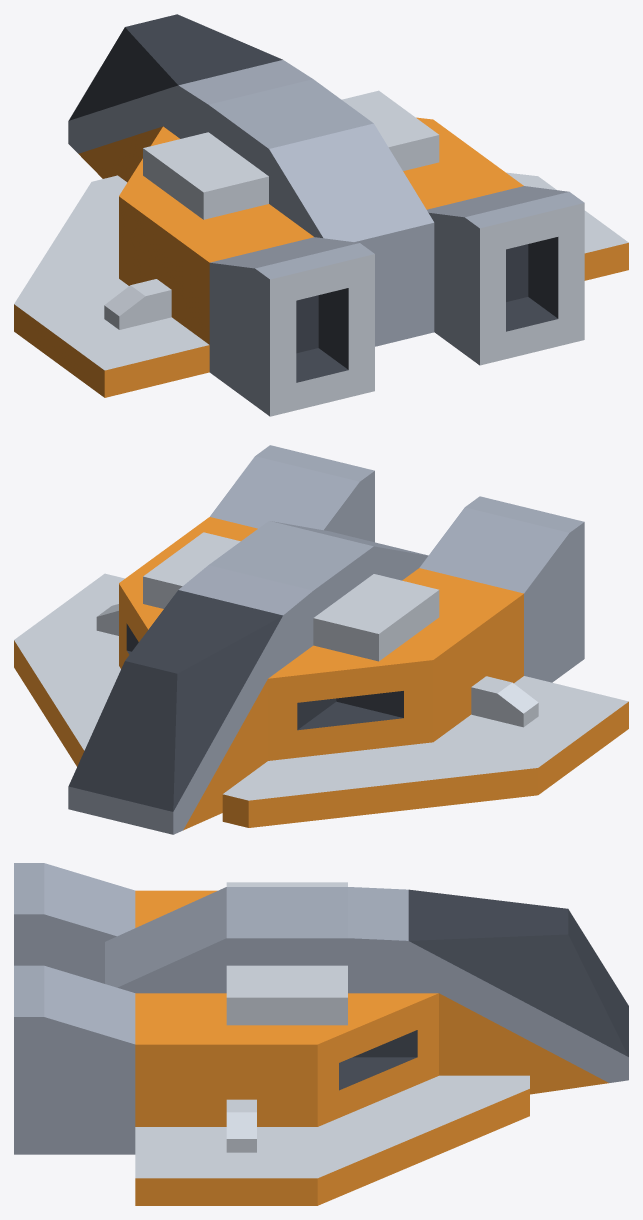
File: k-craft-speeder-b.glb
3 renders of one model, top to bottom at view 1: azimuth 30°, elevation 25°; view 2: azimuth 150°, elevation 25°; view 3: azimuth 270°, elevation 25°, orthographic.
Visible parts, largest first — view 1: craft_speederB; view 2: craft_speederB; view 3: craft_speederB.
Boxes of the visible parts, box(x1,y1,x2,y2) form: craft_speederB: box(14, 14, 628, 416); craft_speederB: box(14, 445, 628, 834); craft_speederB: box(14, 863, 628, 1205).
Size of the model in its own units: 2 by 0.6 by 2.03.
